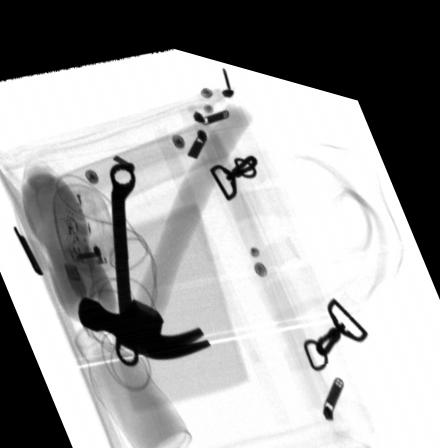Hammer: (76, 88, 253, 350)
Wrench: (108, 154, 139, 359)
